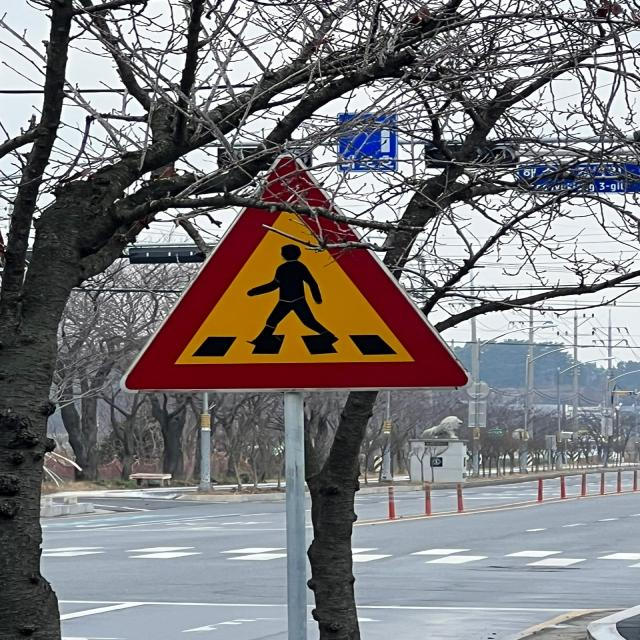Pedestrian_crossing: (107, 142, 486, 404)
